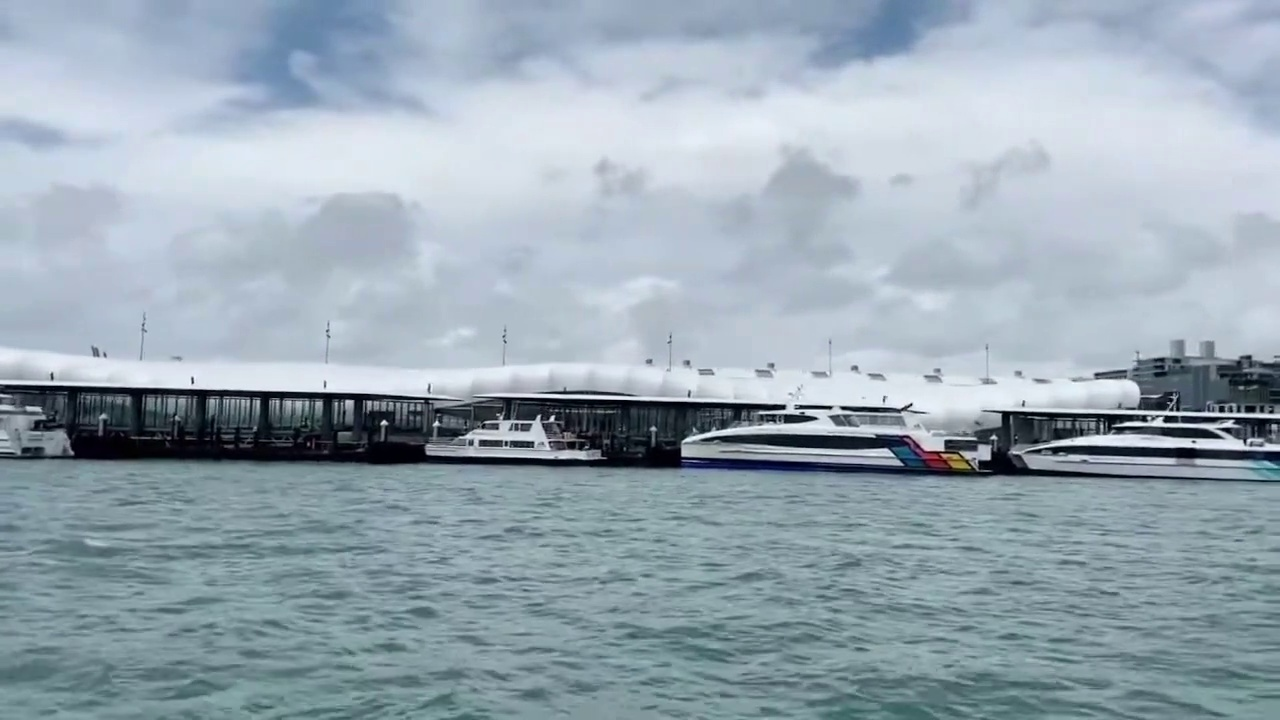ferry: (680, 393, 992, 475), (1008, 394, 1280, 482)
